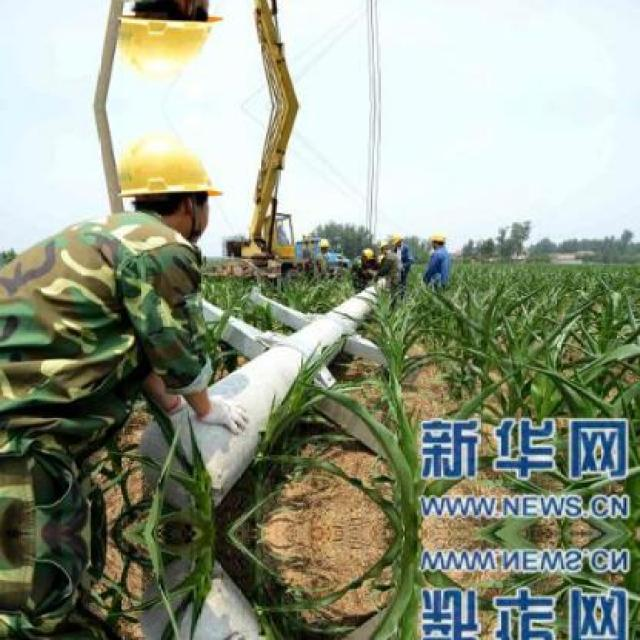helmet: (110, 125, 232, 244), (110, 0, 232, 88), (428, 229, 446, 251), (314, 235, 328, 254), (356, 246, 373, 261), (388, 232, 406, 246), (378, 237, 392, 255)
